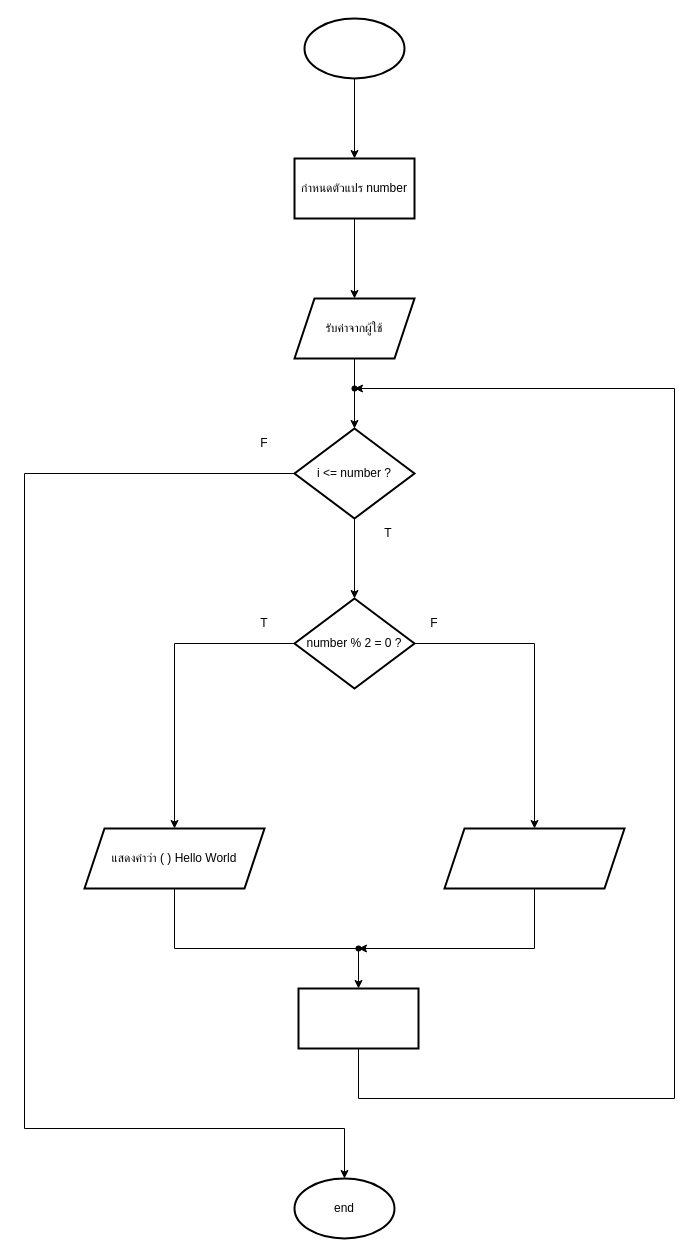
This 700x1256 diagram has some shape labels left out. The centre of each missing label's shape, as x and y in pixels:
"i ++" goes at pixel 358 1018.
"start" goes at pixel 354 48.
"แสดงคำว่า [ ] Hello World" goes at pixel 534 858.
